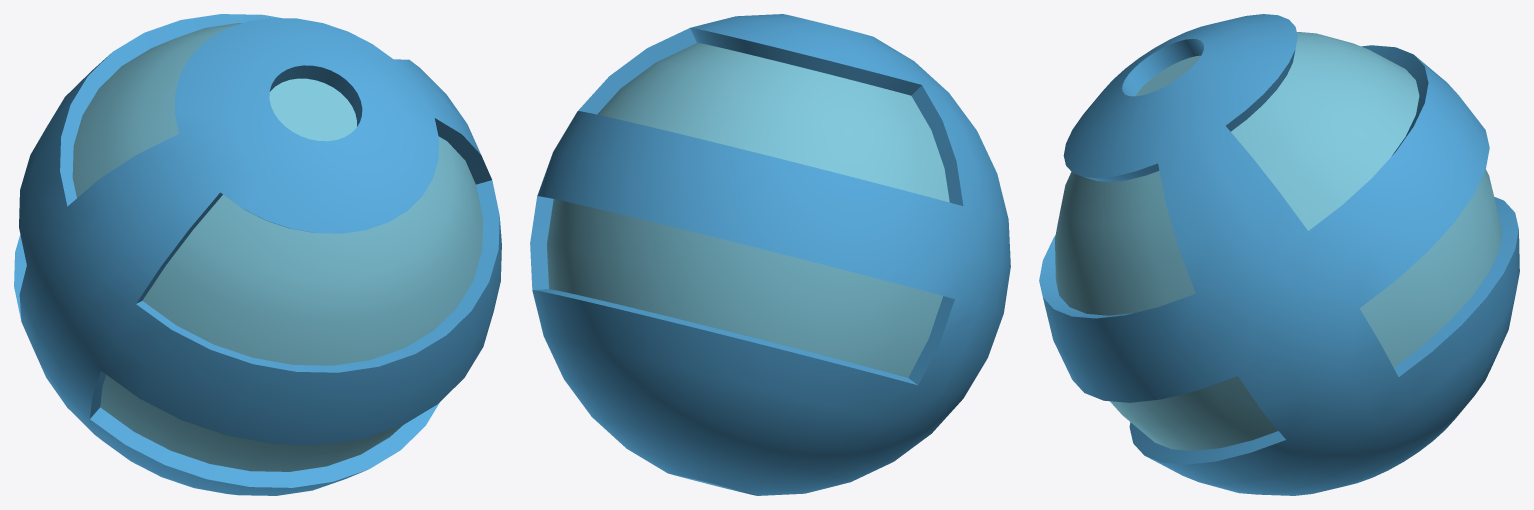
The model's file is 3D_Satellite.fbx.
3 renders of one model, left to right at view 1: azimuth 30°, elevation 25°; view 2: azimuth 150°, elevation 25°; view 3: azimuth 270°, elevation 25°, orthographic.
Visible parts, largest first — view 1: Esterno, Interno; view 2: Esterno, Interno; view 3: Esterno, Interno.
Boxes of the visible parts, x1=… form: Esterno: x1=14, y1=14, x2=501, y2=495; Interno: x1=72, y1=23, x2=483, y2=471; Esterno: x1=530, y1=14, x2=1010, y2=495; Interno: x1=547, y1=43, x2=949, y2=377; Esterno: x1=1039, y1=14, x2=1519, y2=495; Interno: x1=1055, y1=32, x2=1502, y2=450.
Size of the model in its own units: 171 by 170 by 170.
